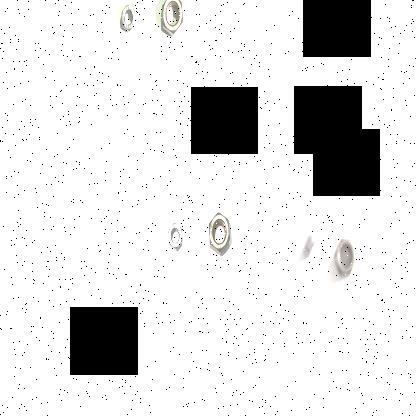NUTS: (204, 202, 230, 264), (155, 0, 191, 44), (332, 229, 358, 285), (114, 0, 140, 44), (162, 211, 184, 261)
